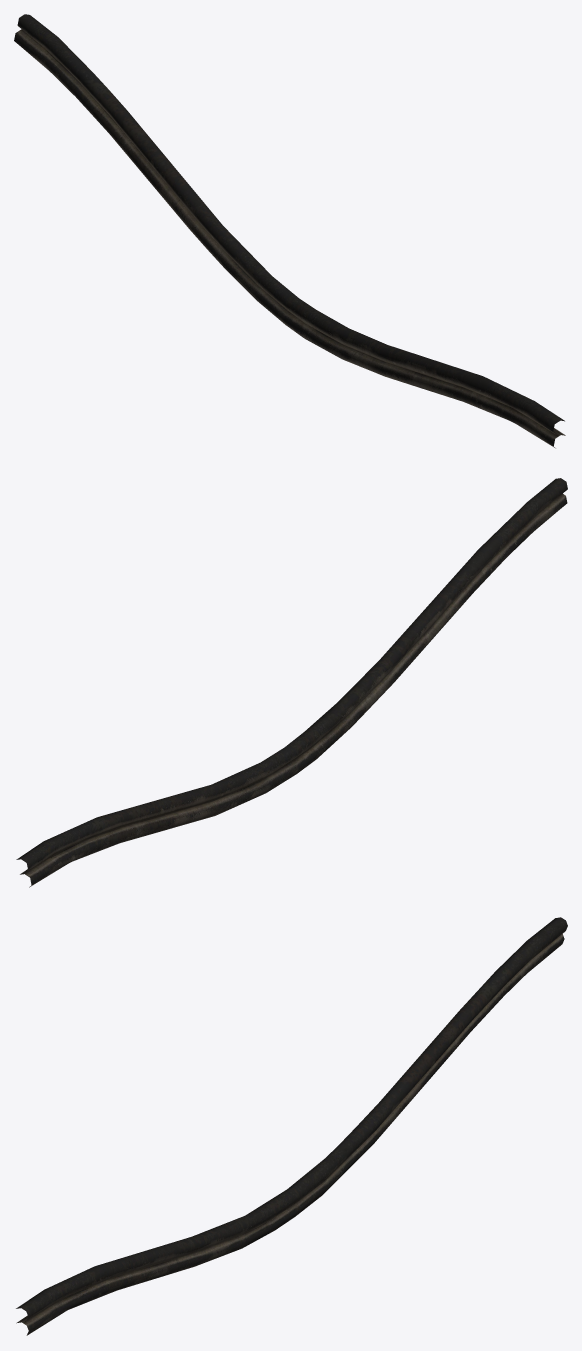
The model's file is SM_Cables03.glb.
3 views of the same model, one above another, from view 1: azimuth 30°, elevation 25°; view 2: azimuth 150°, elevation 25°; view 3: azimuth 330°, elevation 25° (orthographic). The views are drawn at different scales.
Visible parts, largest first — view 1: SM_Cables03; view 2: SM_Cables03; view 3: SM_Cables03.
Boxes of the visible parts, <box> form: SM_Cables03: <box>14,14,565,448</box>; SM_Cables03: <box>16,478,567,887</box>; SM_Cables03: <box>16,917,567,1335</box>.
Bounding box in the file's own units: 0.0509 × 0.223 × 1.99.
1 material, 1 textured.
